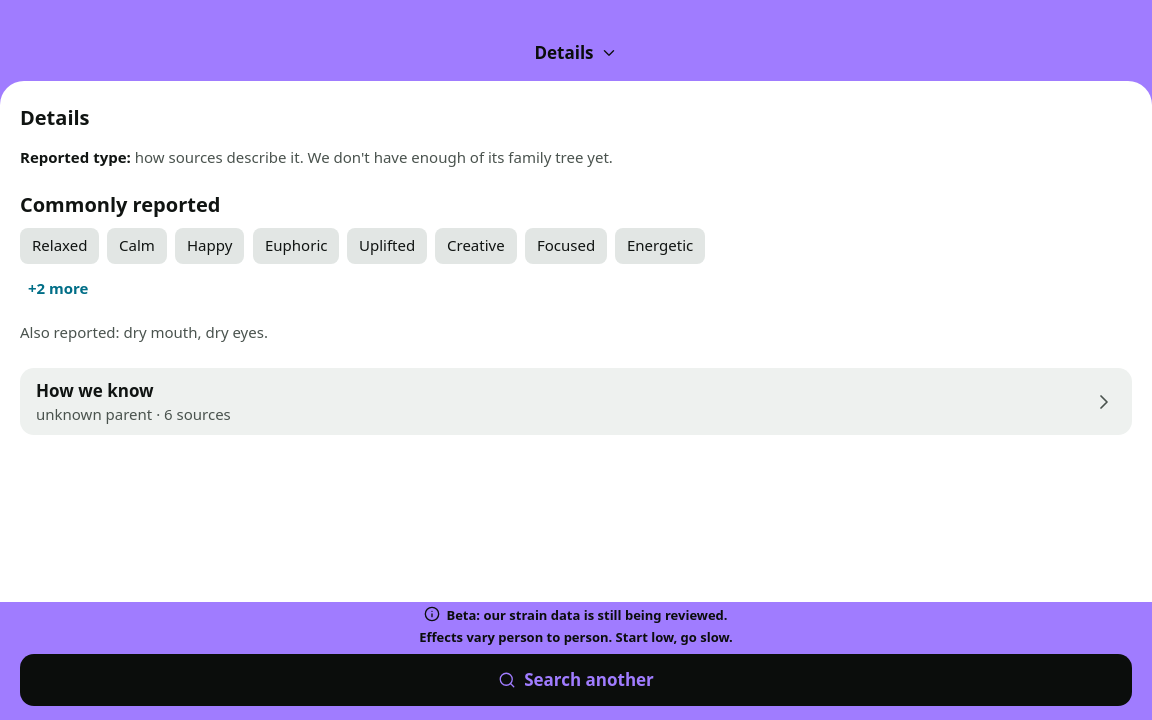
Scenario: result view › collapses past 8 chips with +N more
(page scrolled)
Click the button "+2 more" at coordinates (58, 288), box [20,264,96,312]
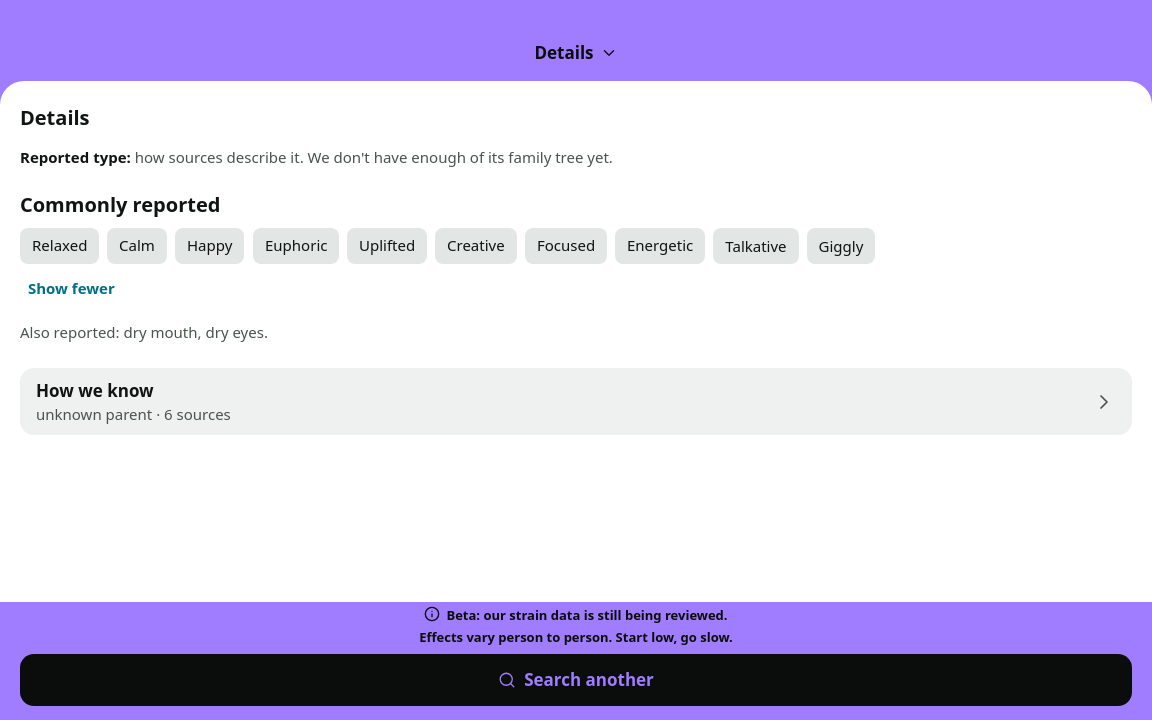
Expected: the text "Also reported: dry mouth, dry eyes." is shown, [20,322,268,342]
Now the number of list items is 10
Now the button "Show fewer" is shown, box [20,264,123,312]
